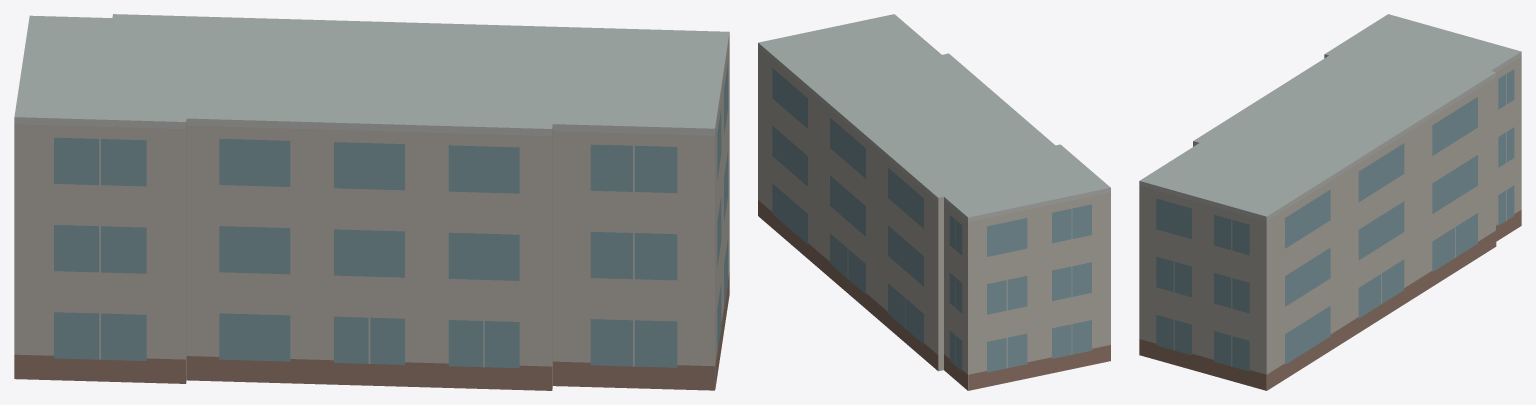
File: survey-upis-32816199.glb
3 renders of one model, left to right at view 1: azimuth 30°, elevation 25°; view 2: azimuth 150°, elevation 25°; view 3: azimuth 270°, elevation 25°, orthographic. The views are drawn at different scales.
Visible parts, largest first — view 1: survey-upis-32816199.tmp; view 2: survey-upis-32816199.tmp; view 3: survey-upis-32816199.tmp.
Boxes of the visible parts, <box> form: survey-upis-32816199.tmp: <box>14,14,729,390</box>; survey-upis-32816199.tmp: <box>758,14,1110,390</box>; survey-upis-32816199.tmp: <box>1139,14,1521,390</box>.
Bounding box in the file's own units: 22.83 × 9.15 × 18.19.
